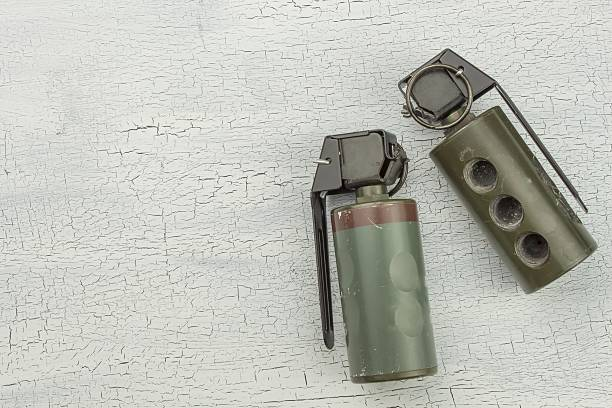e1: (307, 128, 436, 399)
